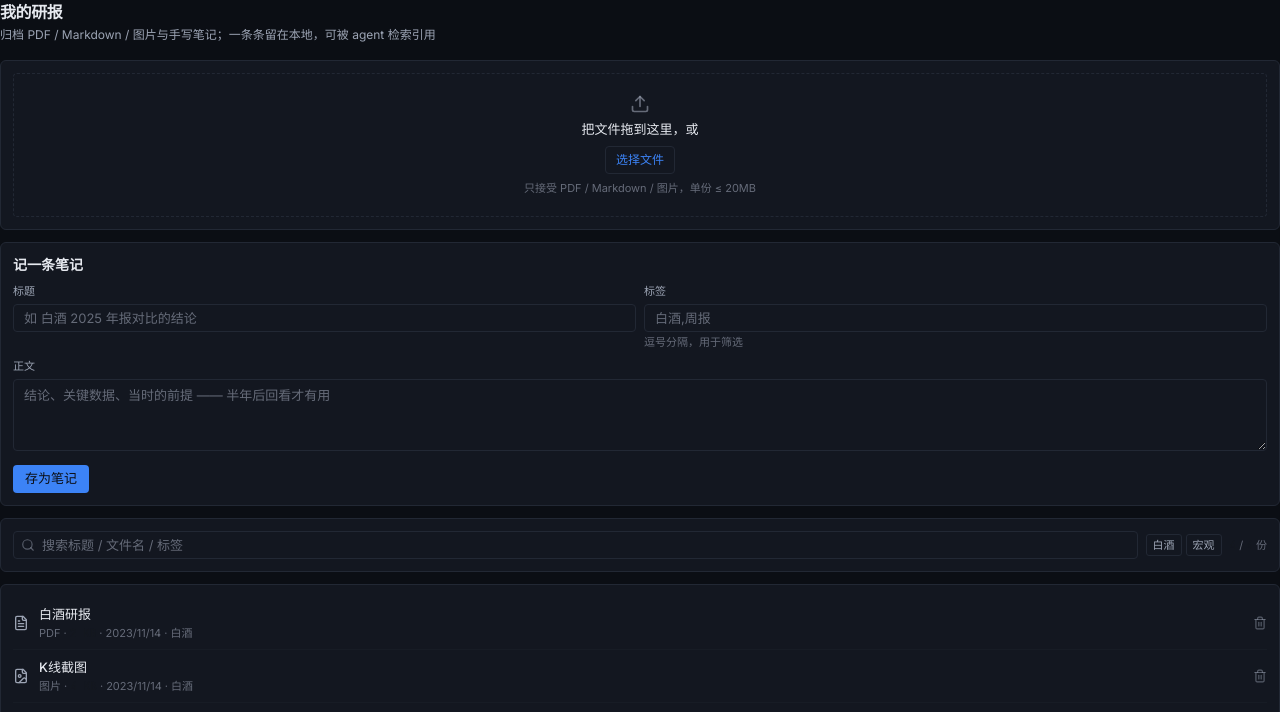
Test: 归档列表 › 按标签筛选
Click the button "白酒": (1164, 545) [1146,534,1182,556]
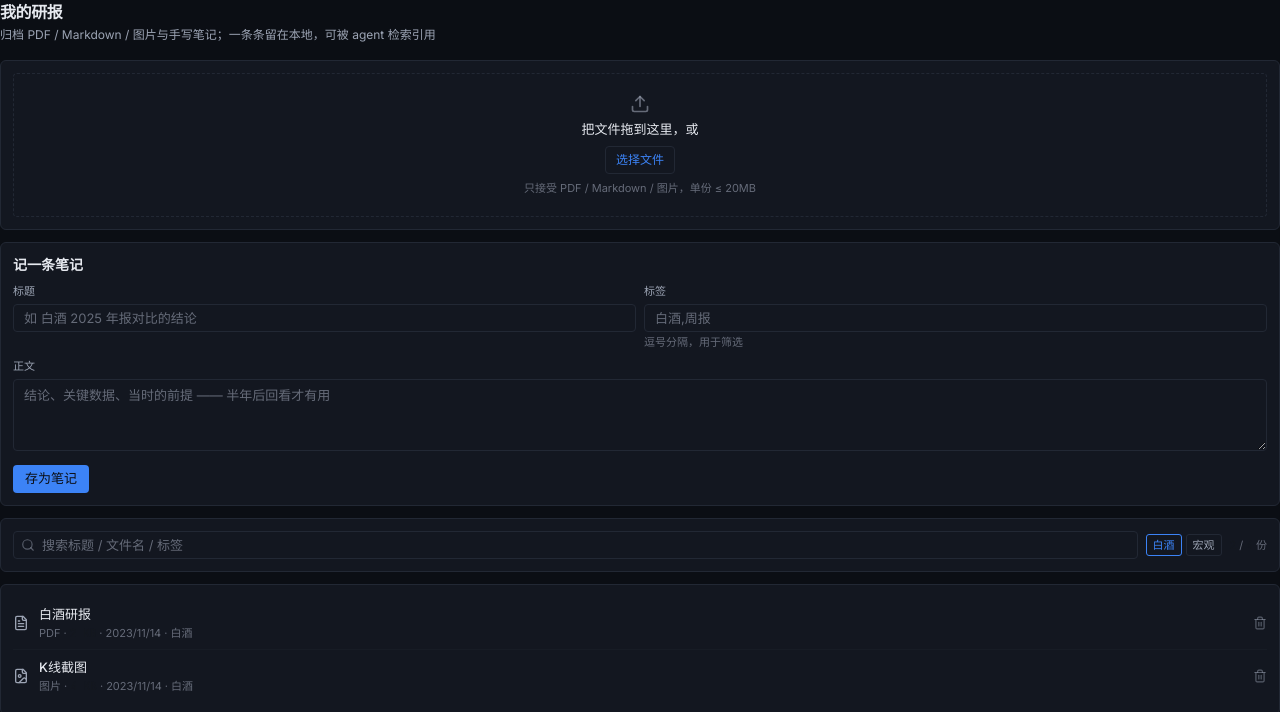
Now the number of elements with test id "doc-row" is 2, box [13,597,1267,649]; [13,649,1267,702]
